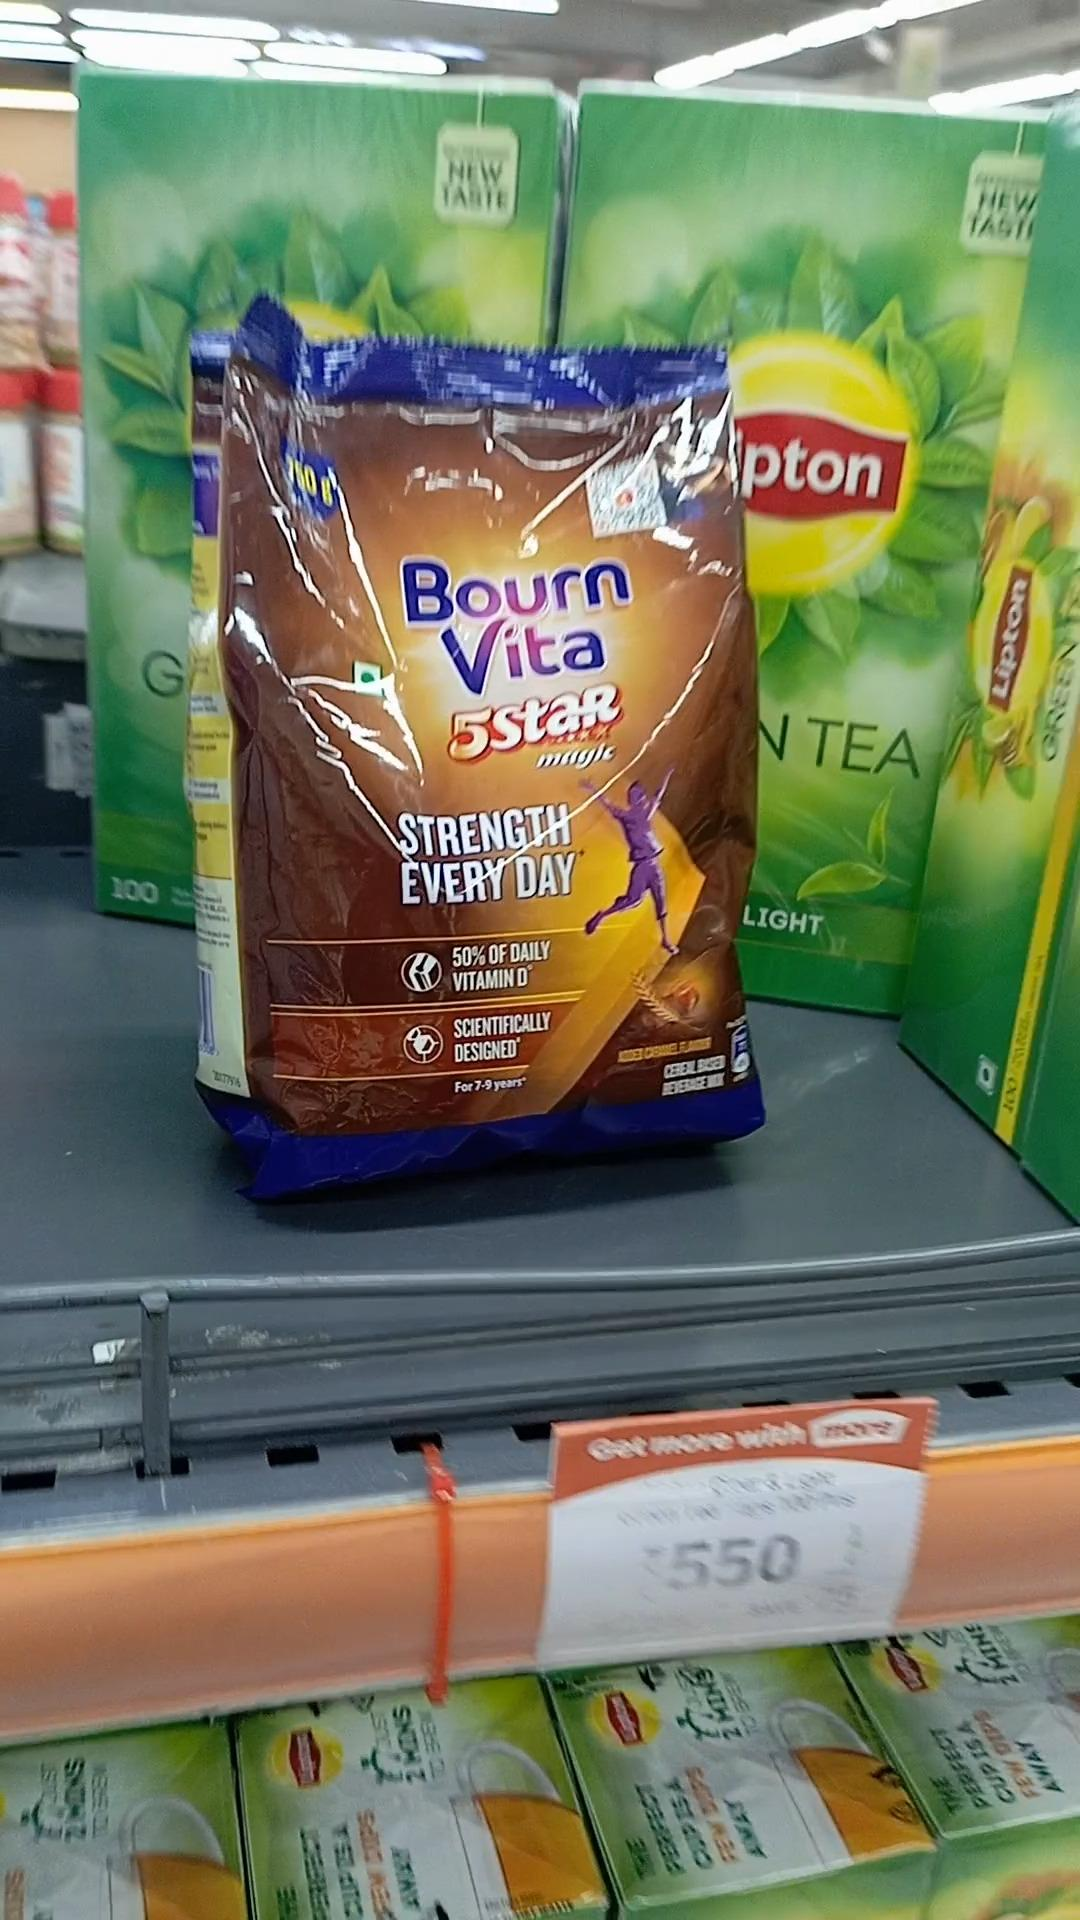BOURN_VITA_FIVE_STAR_MAGIC_750_G_POUCH: (200, 335, 773, 1164)
